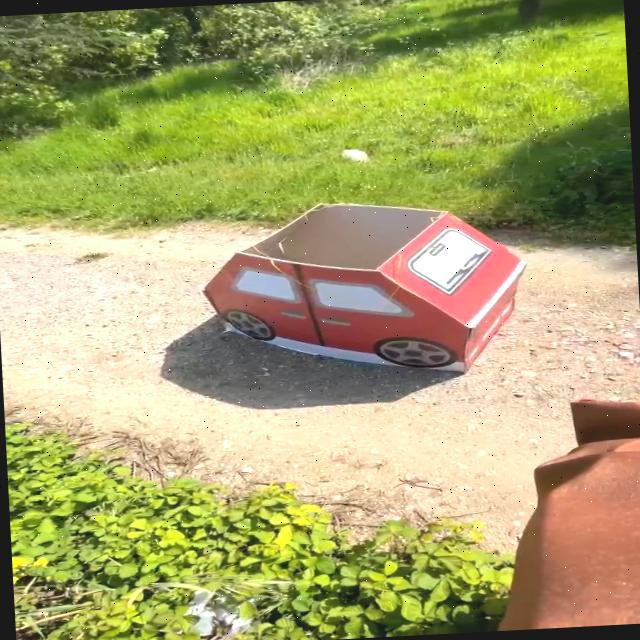red_car: (189, 185, 546, 402)
